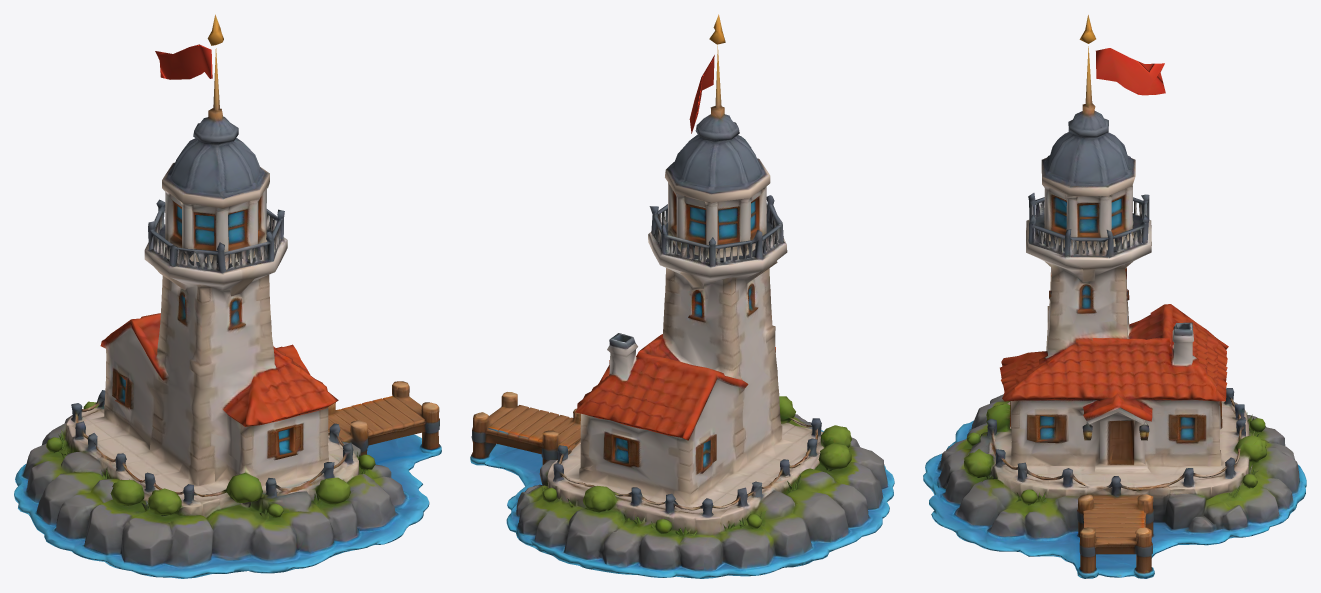
File: m_kizkulesi.glb
3 views of the same model, side by side, from view 1: azimuth 30°, elevation 25°; view 2: azimuth 150°, elevation 25°; view 3: azimuth 270°, elevation 25° (orthographic). The views are drawn at different scales.
Visible parts, largest first — view 1: tripo_node_79bb959e-360e-4883-8b17-44e328e1dd44; view 2: tripo_node_79bb959e-360e-4883-8b17-44e328e1dd44; view 3: tripo_node_79bb959e-360e-4883-8b17-44e328e1dd44.
Part boxes in pixels (x1,y1,x2,y2): tripo_node_79bb959e-360e-4883-8b17-44e328e1dd44: (14, 14, 441, 578); tripo_node_79bb959e-360e-4883-8b17-44e328e1dd44: (470, 14, 894, 578); tripo_node_79bb959e-360e-4883-8b17-44e328e1dd44: (923, 15, 1306, 578).
Size of the model in its own units: 0.8134 by 0.979 by 0.7364.
1 material, 1 textured.
